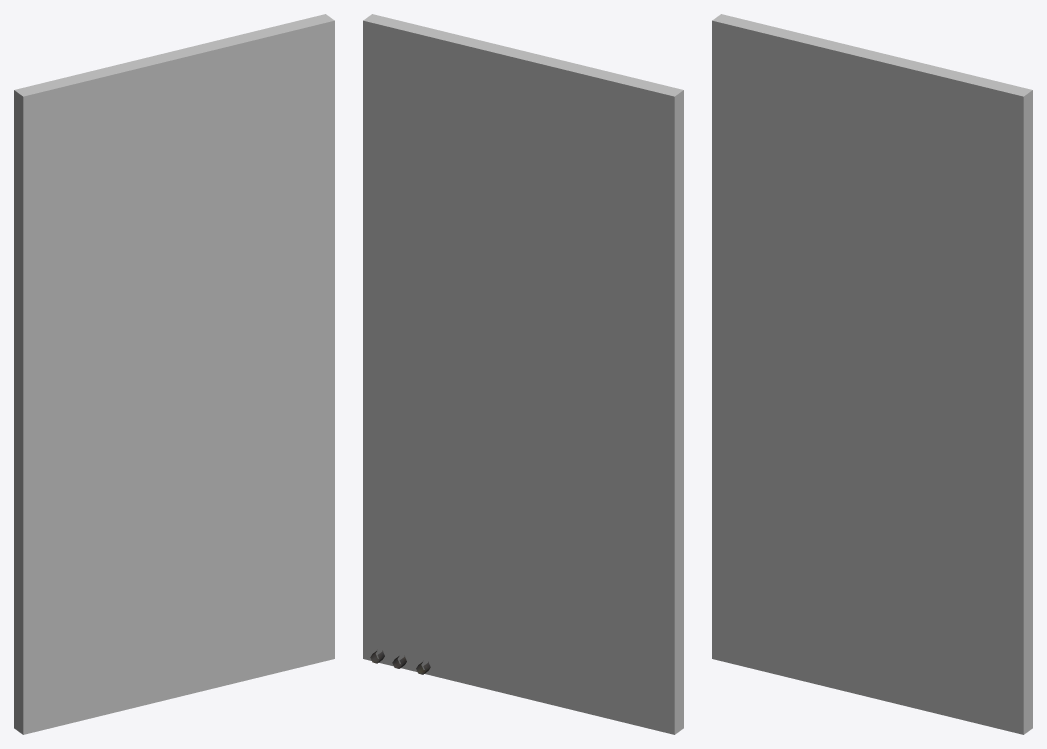
File: pipes_06.DAE
3 views of the same model, side by side, from view 1: azimuth 30°, elevation 25°; view 2: azimuth 150°, elevation 25°; view 3: azimuth 330°, elevation 25° (orthographic).
Parts seen in each view (by area): view 1: bounds; view 2: bounds; view 3: bounds.
Boxes of the visible parts, x1,y1,x2,y2 form: bounds: [14, 14, 334, 734]; bounds: [363, 14, 683, 734]; bounds: [712, 14, 1032, 734].
Size of the model in its own units: 389 by 31.05 by 761.
